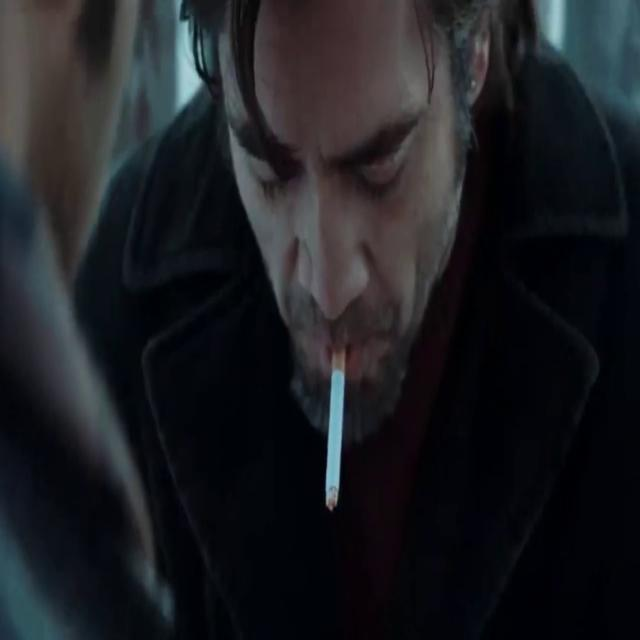Smooking: (318, 348, 352, 513)
